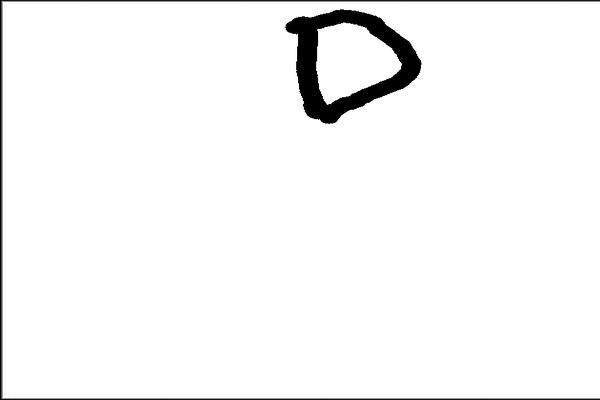D: (280, 3, 425, 128)
